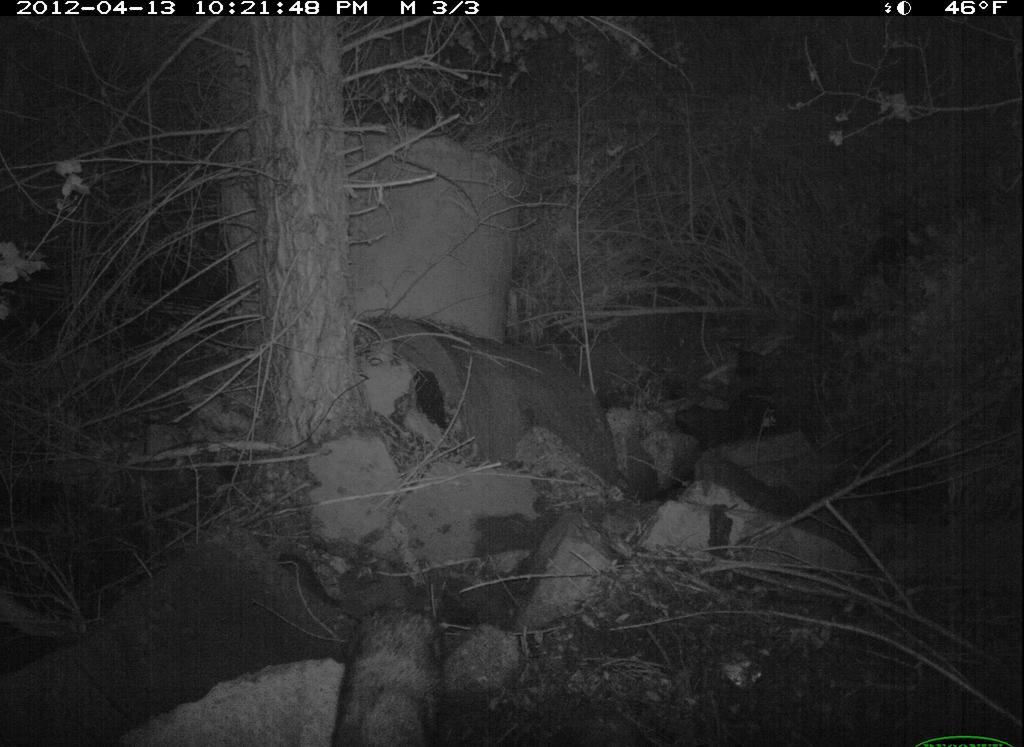raccoon: (321, 589, 461, 745)
